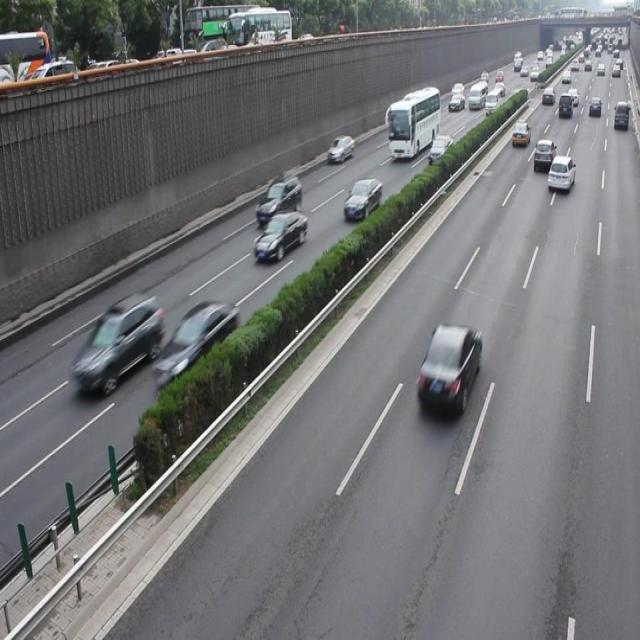car: (71, 292, 164, 392), (152, 301, 238, 388), (414, 320, 481, 416), (252, 210, 307, 262), (254, 172, 302, 225), (342, 177, 381, 221), (546, 154, 574, 192), (326, 133, 353, 163), (532, 138, 555, 171)
